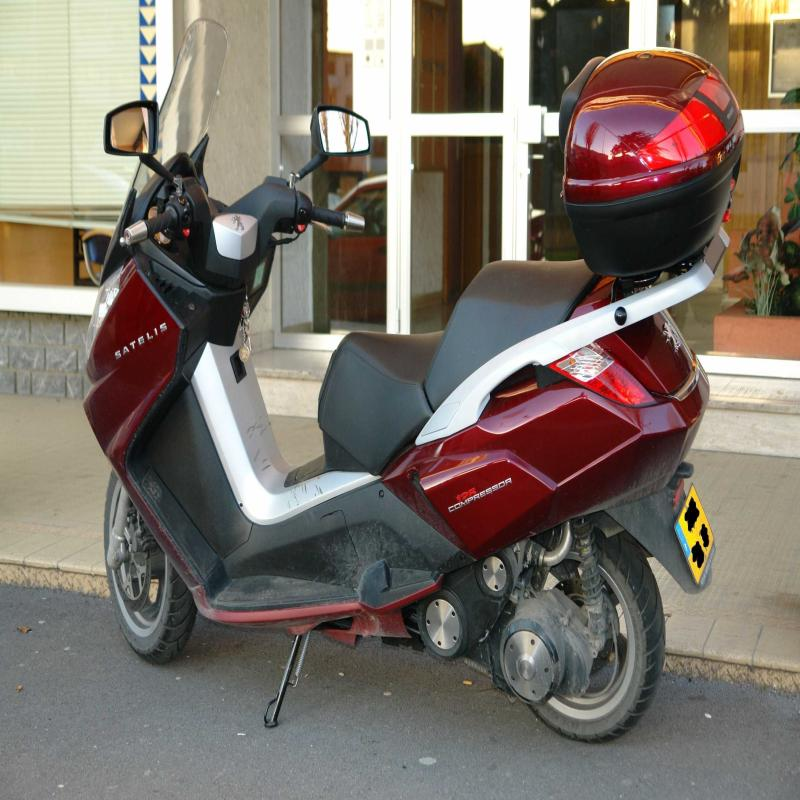bike: (59, 32, 725, 736)
